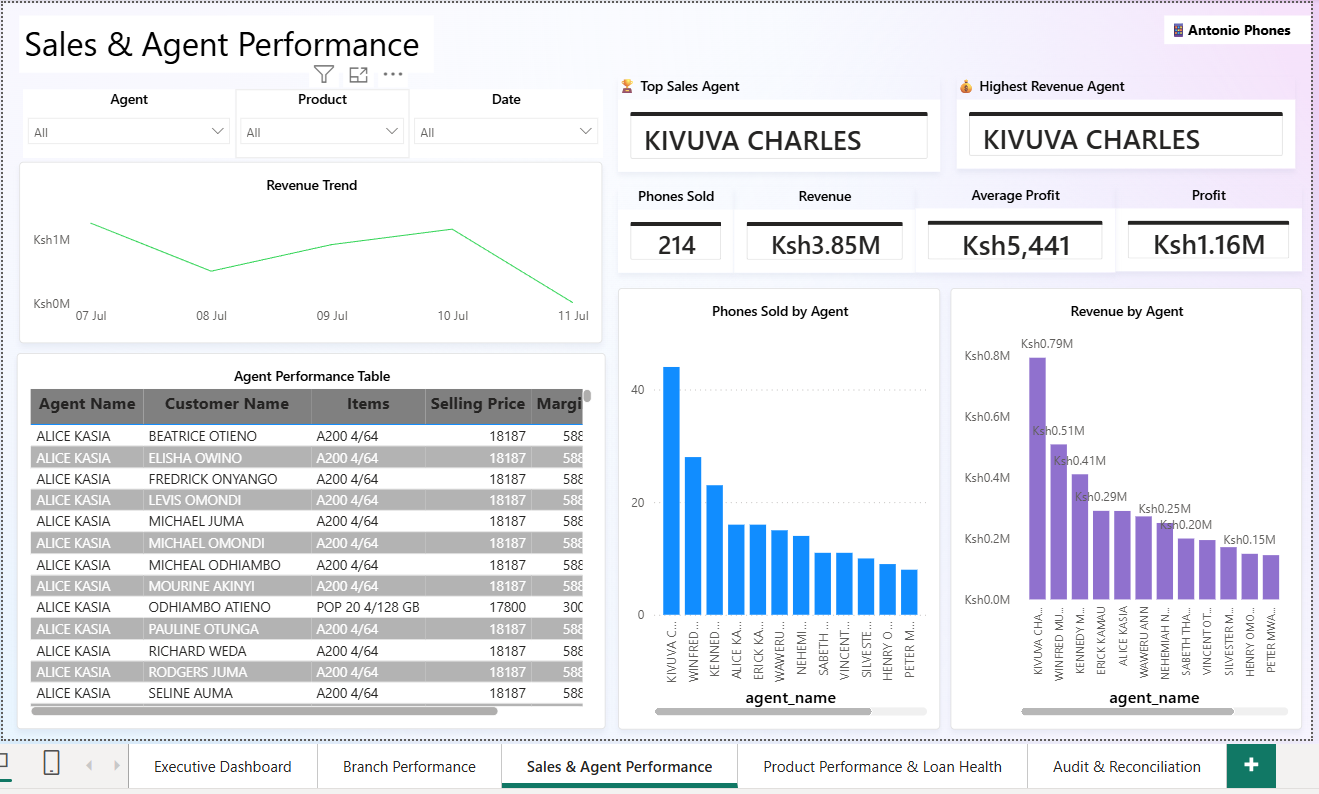

Layout of this report page (visuals, bound fields, positions):
{"tool":"powerbi","page":{"name":"Sales & Agent Performance","canvas":[1280,720],"ordinal":2},"visuals":[{"type":"textbox","box":[15.9,12.2,406,56.3],"z":0},{"type":"slicer","title":"Date","fields":{"Values":["Calendar.Date"]},"box":[397.4,84.4,189.5,67.3],"z":1000},{"type":"slicer","title":"Agent","fields":{"Values":["master_loans.agent"]},"box":[19.3,84.5,207.5,67.6],"z":2000},{"type":"cardVisual","title":"Phones Sold","fields":{"Data":["KPI.Phones Sold"]},"box":[601.6,179.8,113.7,84.4],"z":3000},{"type":"cardVisual","title":"Revenue","fields":{"Data":["KPI.Revenue"]},"box":[715.4,179.8,177.3,84.4],"z":4000},{"type":"cardVisual","title":"Profit","fields":{"Data":["KPI.Profit"]},"box":[1088.3,178.5,182.2,84.4],"z":5000},{"type":"clusteredColumnChart","title":"Revenue by Agent","fields":{"Y":["KPI.Revenue"],"Category":["sales_details_clean.agent_name"]},"box":[926.9,278.8,343.6,431.7],"z":6000},{"type":"tableEx","title":" Agent Performance Table","fields":{"Values":["sales_details_clean.agent_name","sales_details_clean.customer_name","sales_details_clean.items","sales_details_clean.sp","sales_details_clean.margin","sales_details_clean.date"]},"box":[13.5,342.4,576,368.1],"z":7000},{"type":"textbox","box":[1136.4,12.1,143.6,27.7],"z":8000},{"type":"slicer","title":"Product","fields":{"Values":["master_loans.brand"]},"box":[227.4,84.4,170,67.3],"z":9000},{"type":"lineChart","title":"Revenue Trend","fields":{"Y":["KPI.Revenue"],"Category":["Calendar.Date.Variation.Date Hierarchy.Year","Calendar.Date.Variation.Date Hierarchy.Quarter","Calendar.Date.Variation.Date Hierarchy.Month","Calendar.Date.Variation.Date Hierarchy.Day"]},"box":[15.7,155.6,570.6,177.3],"z":10000},{"type":"cardVisual","title":"Average Profit","fields":{"Data":["KPI.Average Profit"]},"box":[892.7,178.5,195.7,85.6],"z":11000},{"type":"clusteredColumnChart","title":"Phones Sold by Agent","fields":{"Category":["sales_details_clean.agent_name"],"Y":["KPI.Phones Sold"]},"box":[601.6,278.8,315.5,431.7],"z":12000},{"type":"cardVisual","title":"🏆 Top Sales Agent","fields":{"Data":["KPI.Top Sales Agent"]},"box":[601.6,72.1,315.5,92.9],"z":13000},{"type":"cardVisual","title":"💰 Highest Revenue Agent","fields":{"Data":["KPI.Highest Revenue Agent"]},"box":[933,72.1,331.4,90.5],"z":14000}]}

Visuals, with their boxes on the page's 1280x720 design canvas (x1, y1, x2, y2). These are canvas units, not pixel positions in the 1319x794 screenshot, which may show the page scaled, cropped or inside an application window:
textbox: left=16, top=12, right=422, bottom=68
"Date" slicer: left=397, top=84, right=587, bottom=152
"Agent" slicer: left=19, top=84, right=227, bottom=152
"Phones Sold" cardVisual: left=602, top=180, right=715, bottom=264
"Revenue" cardVisual: left=715, top=180, right=893, bottom=264
"Profit" cardVisual: left=1088, top=178, right=1270, bottom=263
"Revenue by Agent" clusteredColumnChart: left=927, top=279, right=1270, bottom=710
" Agent Performance Table" tableEx: left=14, top=342, right=590, bottom=710
textbox: left=1136, top=12, right=1280, bottom=40
"Product" slicer: left=227, top=84, right=397, bottom=152
"Revenue Trend" lineChart: left=16, top=156, right=586, bottom=333
"Average Profit" cardVisual: left=893, top=178, right=1088, bottom=264
"Phones Sold by Agent" clusteredColumnChart: left=602, top=279, right=917, bottom=710
"🏆 Top Sales Agent" cardVisual: left=602, top=72, right=917, bottom=165
"💰 Highest Revenue Agent" cardVisual: left=933, top=72, right=1264, bottom=163
